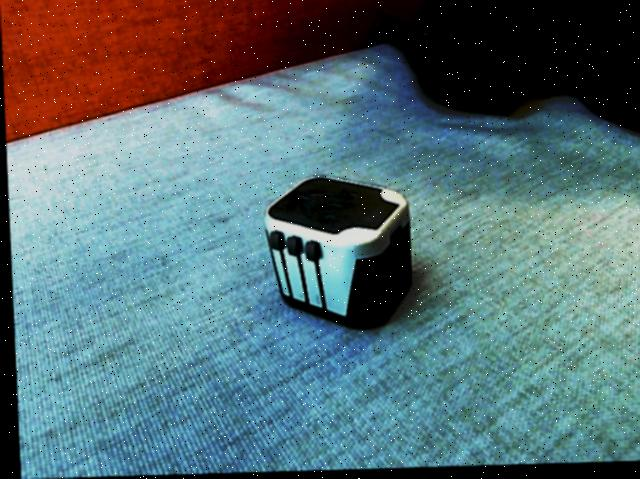adapter: (260, 175, 412, 334)
